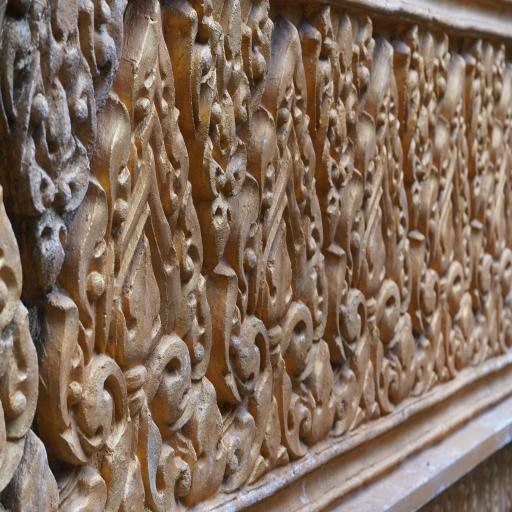lua: (18, 4, 232, 512), (201, 10, 339, 480), (306, 23, 434, 445), (0, 0, 142, 312), (392, 38, 494, 400), (168, 0, 270, 248), (463, 68, 512, 395), (388, 8, 454, 190), (302, 0, 362, 190), (449, 33, 509, 142)
